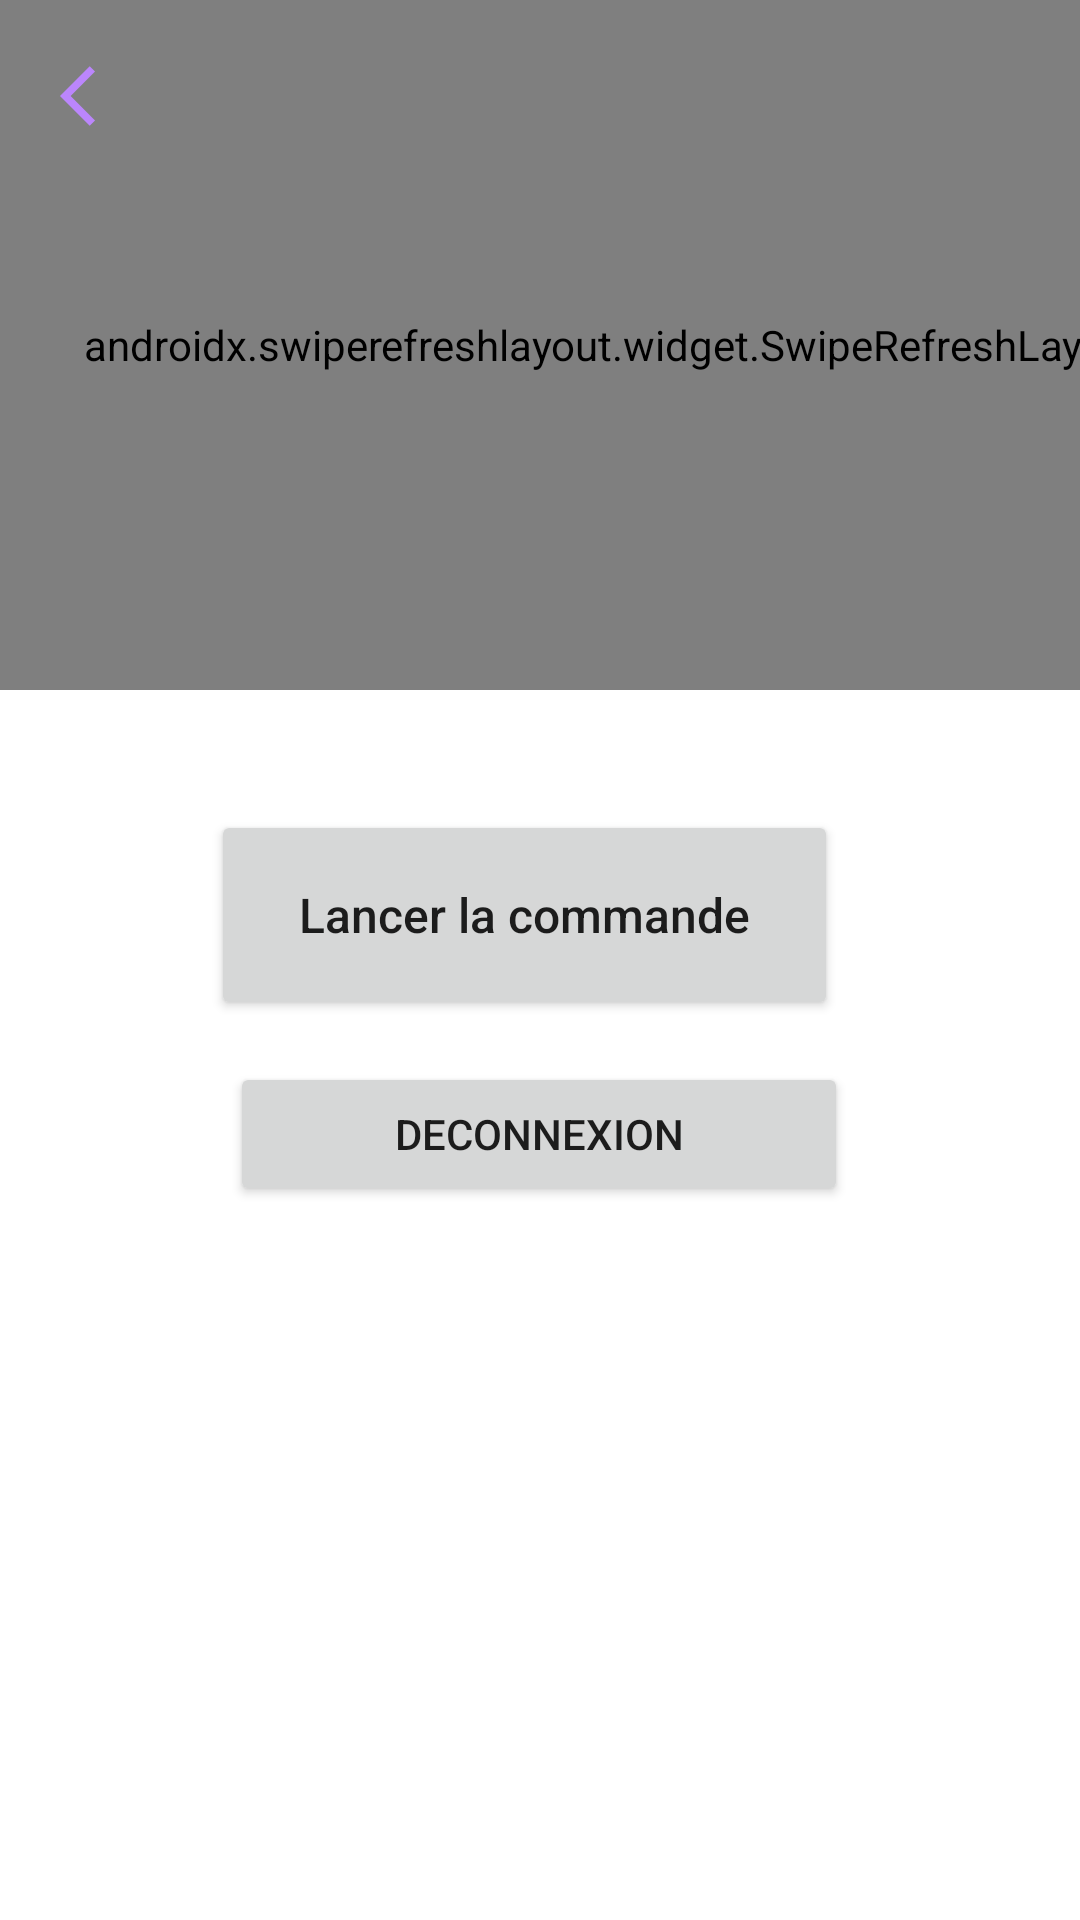

Icon click points for this 1080px x 1920px phone screenshot, format point (x, y):
arrow back: point (77, 96)
